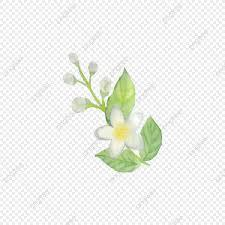jasmine: (30, 45, 173, 187)
